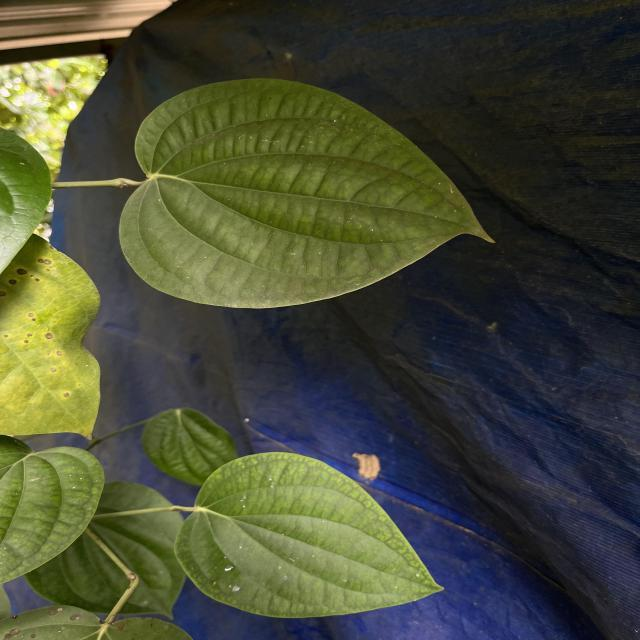Piper nigrum: (112, 76, 500, 310), (170, 450, 448, 620)
